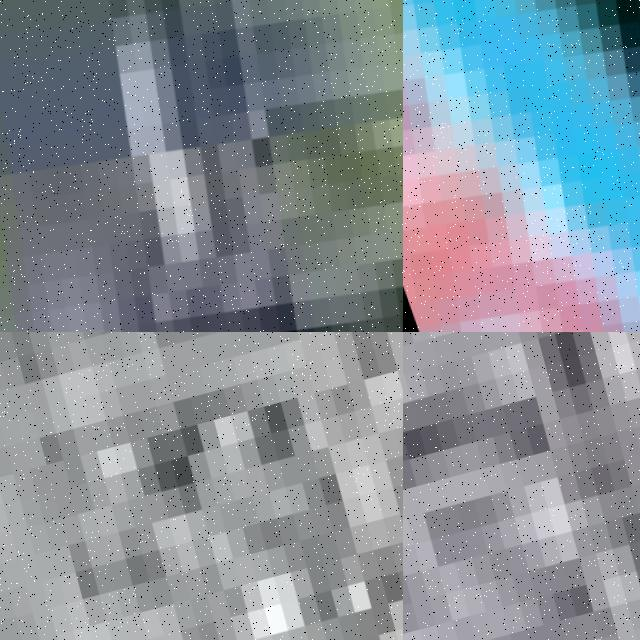0: (0, 0, 403, 332)
drone: (403, 0, 640, 332)
